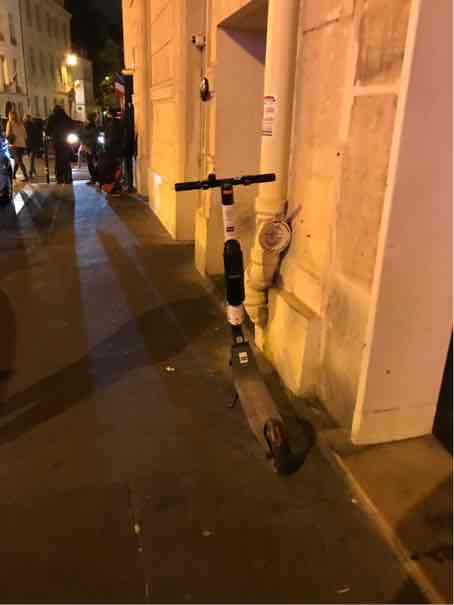scooter: (171, 163, 300, 484)
